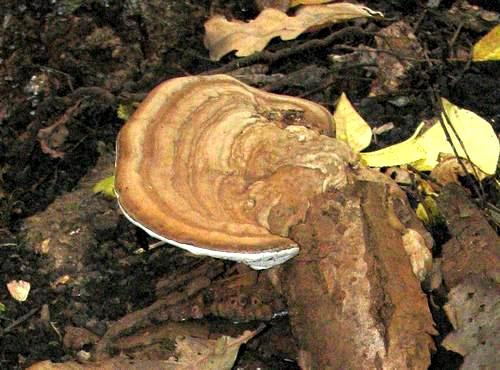Ganoderma - Fruit Body: (114, 73, 356, 276)
